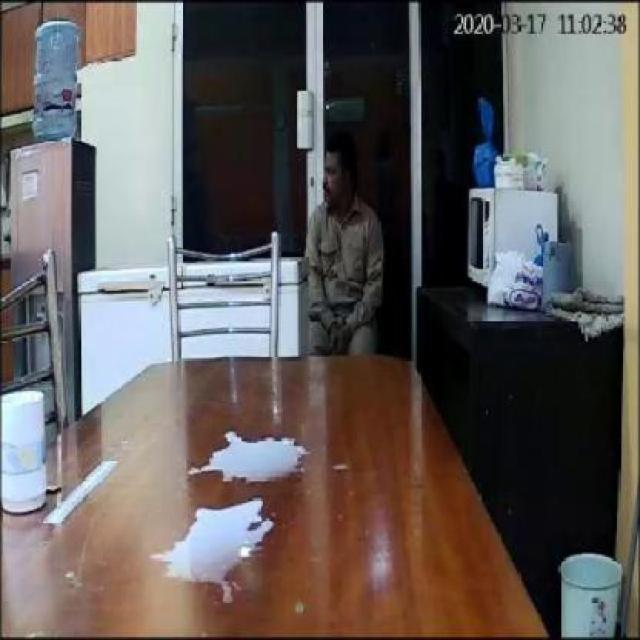spillage: (149, 495, 279, 594), (200, 431, 308, 482)
